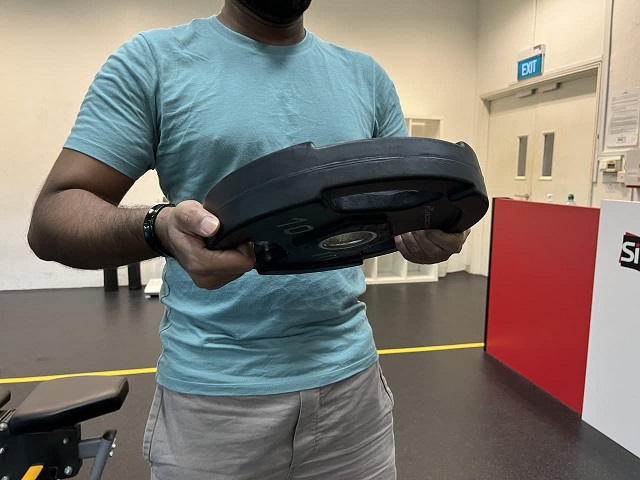weights: (197, 136, 492, 277)
